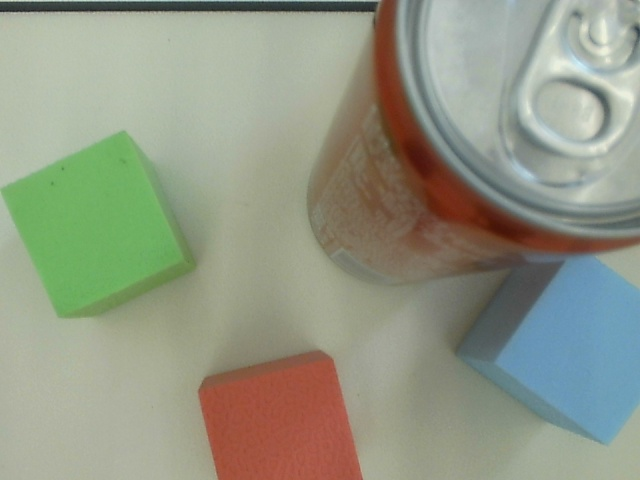bluecube: (454, 253, 640, 447)
cola: (304, 1, 640, 289)
greencube: (1, 128, 200, 325)
redcube: (191, 349, 373, 480)
